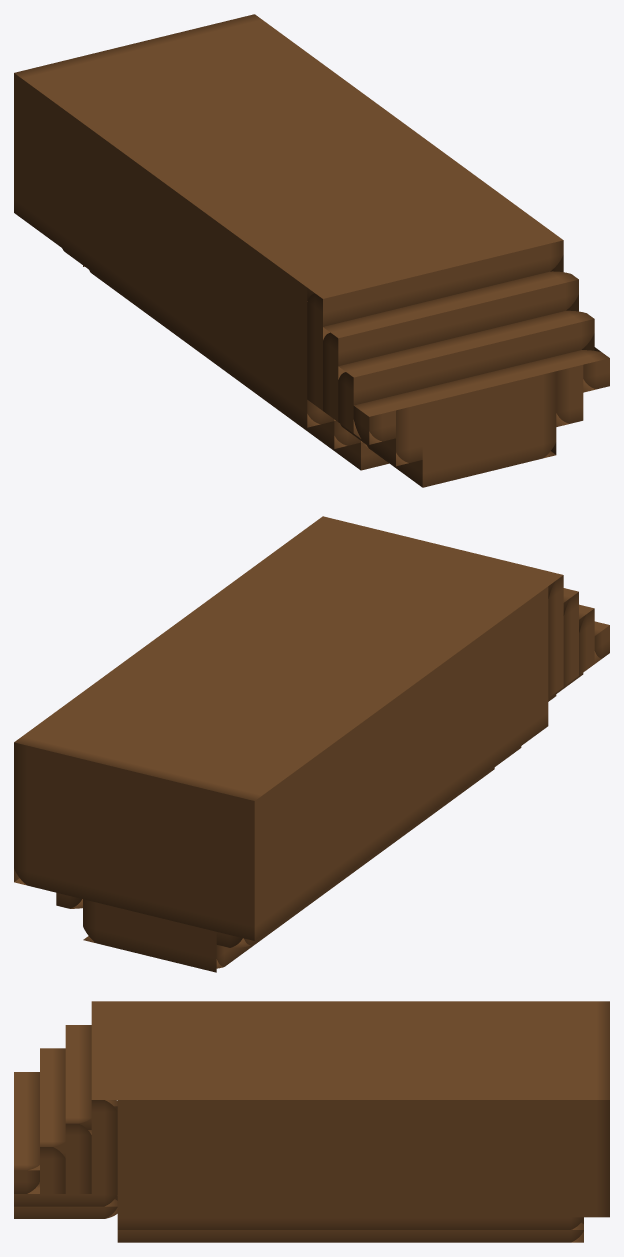
File: OlimpyaMullet.obj
The picture shows the model from 3 angles, top to bottom: view 1: azimuth 30°, elevation 25°; view 2: azimuth 150°, elevation 25°; view 3: azimuth 270°, elevation 25°; orthographic projection. The views are drawn at different scales.
Parts seen in each view (by area): view 1: Model; view 2: Model; view 3: Model.
Part boxes in pixels (x1,y1,x2,y2): Model: (14, 14, 609, 487); Model: (14, 516, 609, 972); Model: (14, 1001, 609, 1242).
Size of the model in its own units: 2.44 by 1.9 by 6.24.
1 material, 1 textured.
